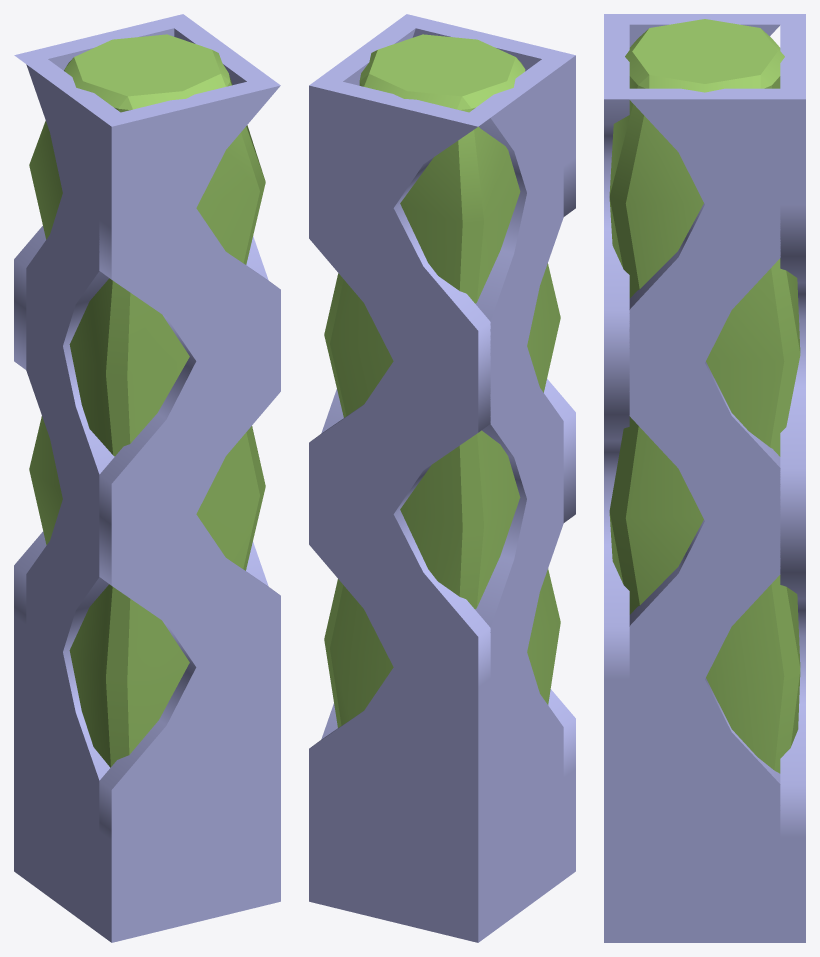
File: U_gebouw2.fbx
3 renders of one model, left to right at view 1: azimuth 30°, elevation 25°; view 2: azimuth 150°, elevation 25°; view 3: azimuth 270°, elevation 25°, orthographic. The views are drawn at different scales.
Parts seen in each view (by area): view 1: glass1, green; view 2: glass1, green; view 3: glass1, green.
Part boxes in pixels (x1=…): glass1: x1=14, y1=14, x2=280, y2=942; green: x1=29, y1=34, x2=265, y2=767; glass1: x1=309, y1=14, x2=575, y2=942; green: x1=324, y1=34, x2=560, y2=727; glass1: x1=604, y1=14, x2=805, y2=942; green: x1=609, y1=19, x2=800, y2=773.
Bounding box in the file's own units: 6.2 × 28.76 × 6.2.
